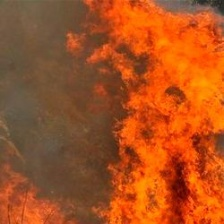fire: (79, 3, 223, 224)
